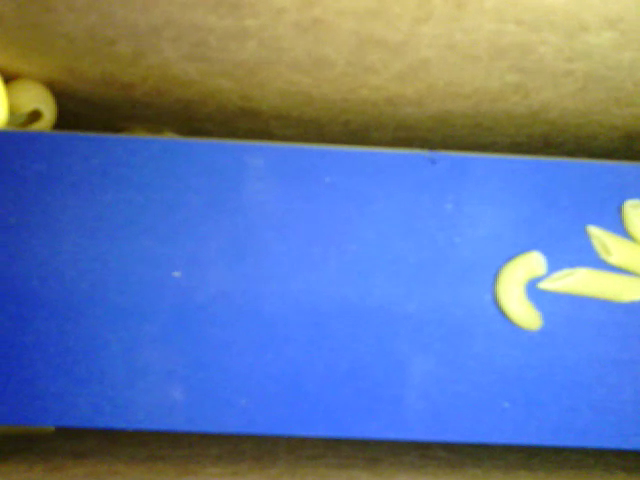elbow: (492, 248, 554, 336)
penne: (539, 265, 638, 303), (582, 222, 634, 270)
shell: (1, 75, 59, 138)
